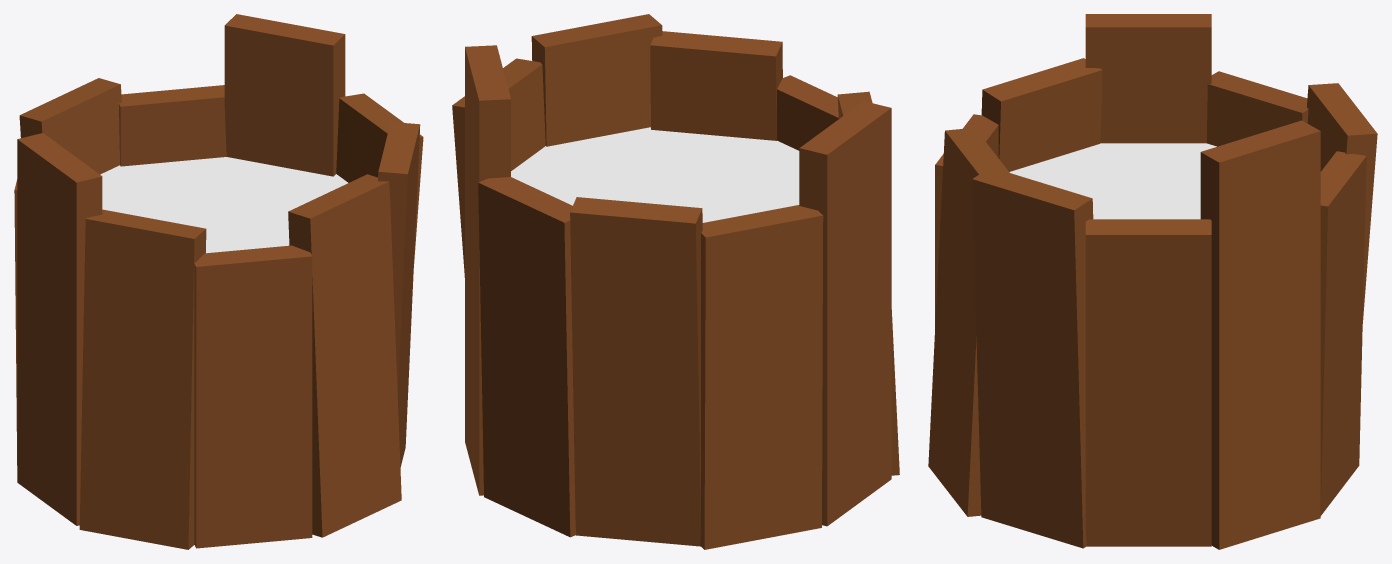
The model's file is BucketOfMilk.fbx.
3 views of the same model, side by side, from view 1: azimuth 30°, elevation 25°; view 2: azimuth 150°, elevation 25°; view 3: azimuth 270°, elevation 25° (orthographic). The views are drawn at different scales.
Visible parts, largest first — view 1: BucketOfMilk; view 2: BucketOfMilk; view 3: BucketOfMilk.
Part boxes in pixels (<box>): BucketOfMilk: <box>14,14,423,549</box>; BucketOfMilk: <box>452,14,899,549</box>; BucketOfMilk: <box>928,14,1377,549</box>.
Size of the model in its own units: 40.41 by 40.45 by 42.44.
